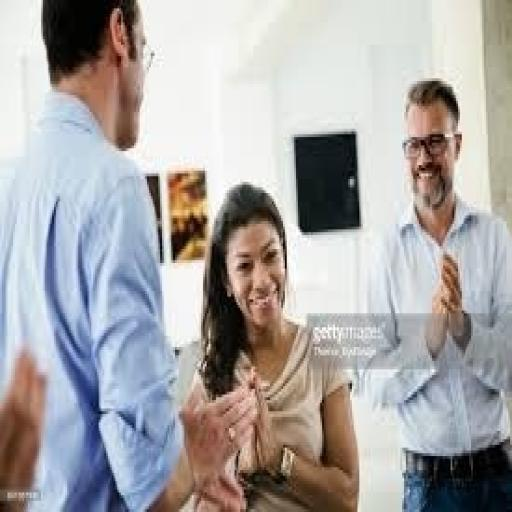clapping: (0, 0, 259, 509), (361, 76, 510, 509), (179, 179, 361, 509)
